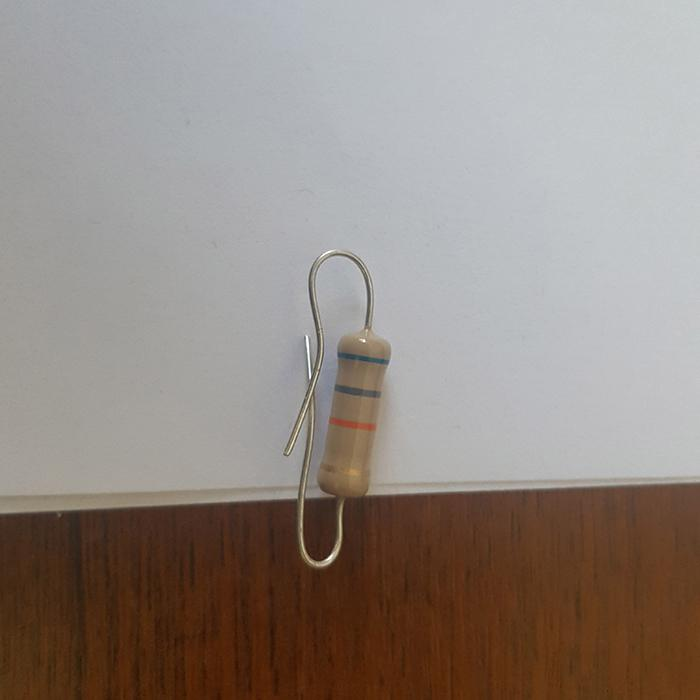resistor: (317, 330, 390, 496)
